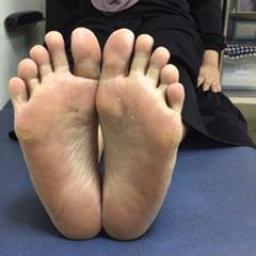Plantar View -Both Feet-: (5, 20, 189, 250)
